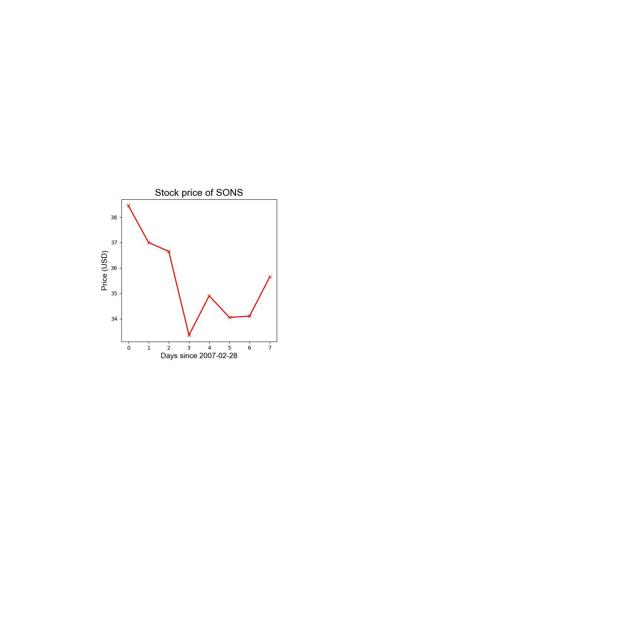Graph: (73, 177, 319, 362)
